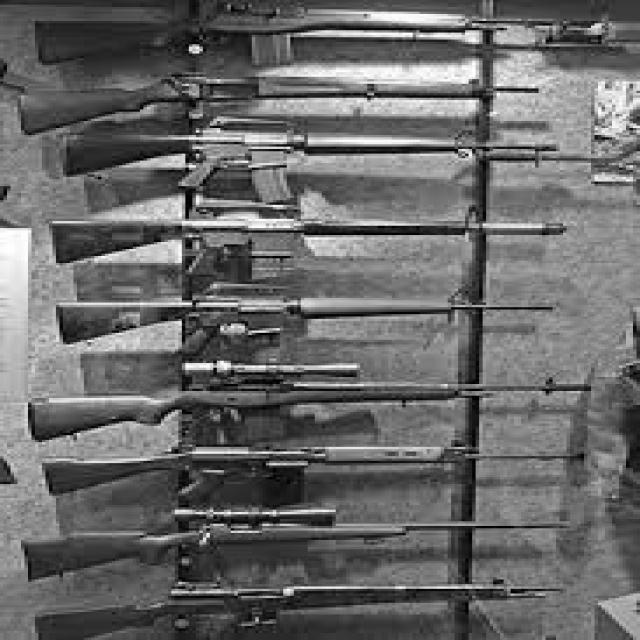gun: (26, 359, 601, 444), (18, 503, 572, 579), (46, 204, 562, 284), (46, 127, 566, 202), (14, 5, 640, 65), (48, 286, 562, 356), (37, 441, 579, 503), (27, 582, 570, 640), (11, 76, 555, 125)
